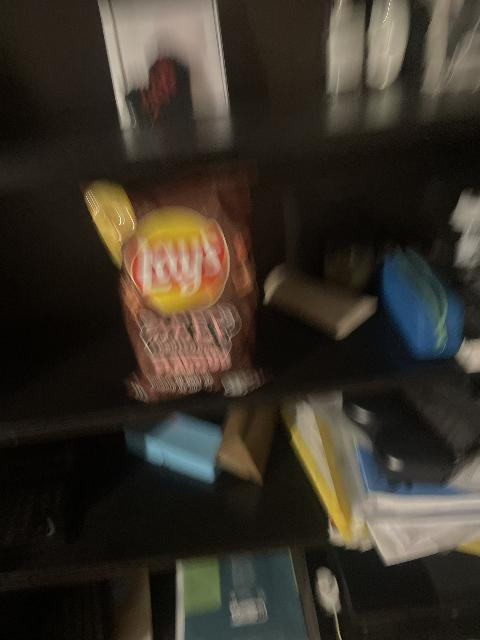Lays Beef Grilled Ribs 125g: (84, 162, 270, 405)
